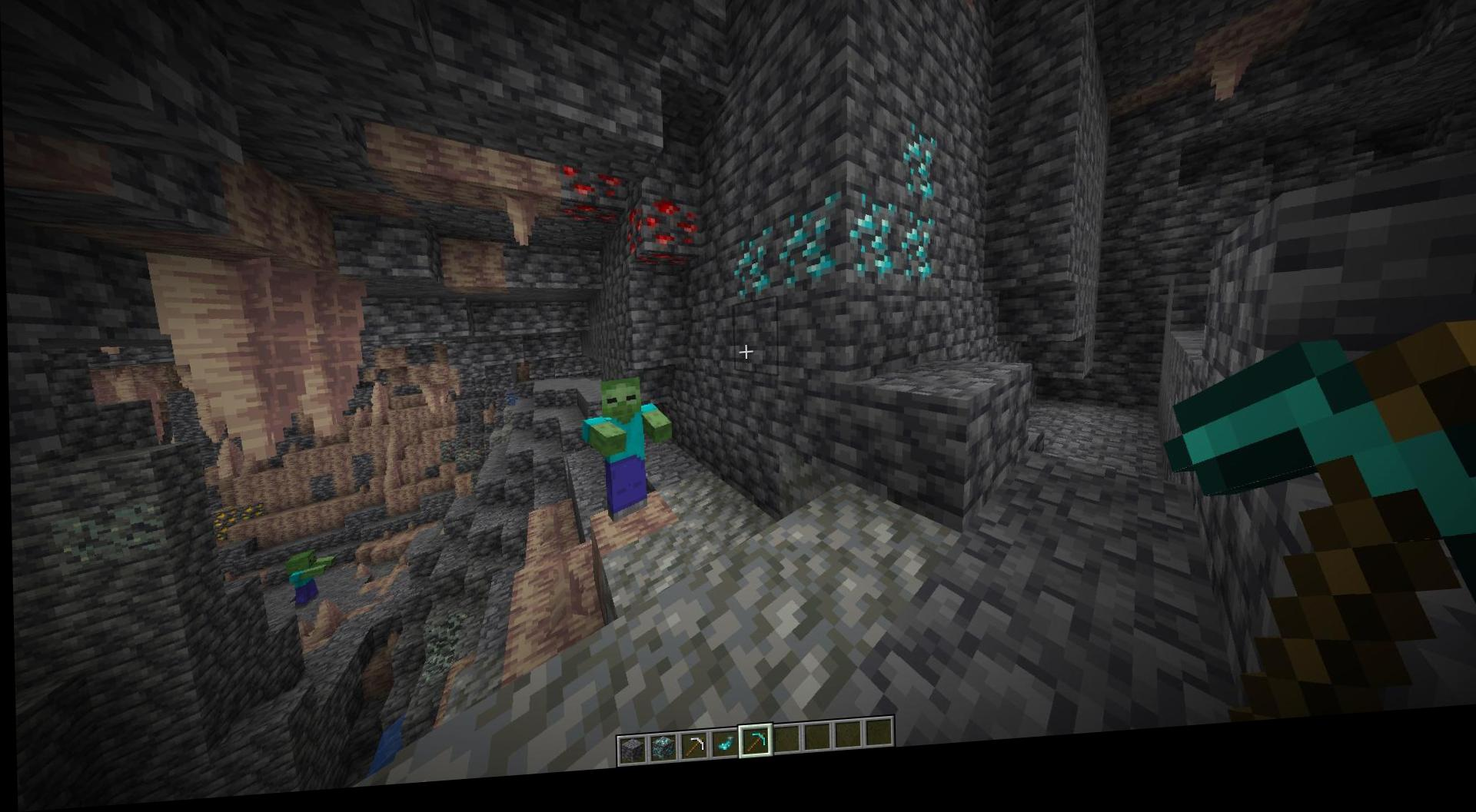diamond ore: (842, 196, 902, 300), (777, 212, 833, 299), (898, 131, 940, 223), (728, 239, 777, 312), (894, 220, 936, 301)
gold ore: (210, 508, 263, 544)
redstone ore: (556, 168, 627, 240), (642, 203, 703, 265), (623, 211, 644, 267)
